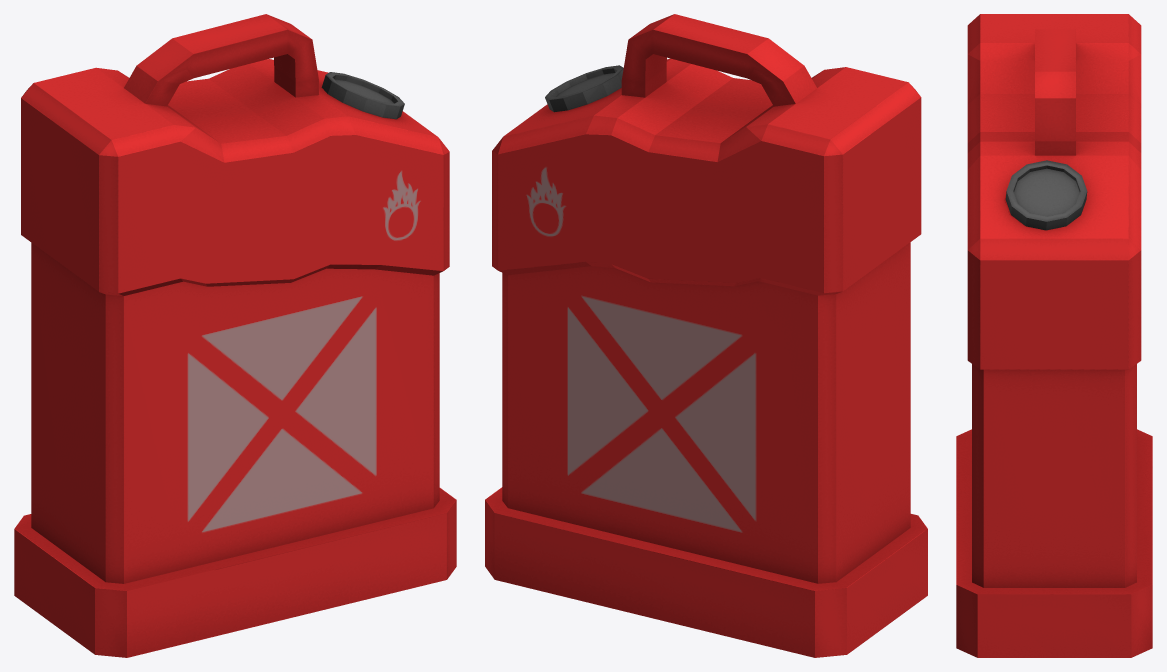
The model's file is gasTank.fbx.
3 views of the same model, side by side, from view 1: azimuth 30°, elevation 25°; view 2: azimuth 150°, elevation 25°; view 3: azimuth 270°, elevation 25° (orthographic). The views are drawn at different scales.
Visible parts, largest first — view 1: Galao; view 2: Galao; view 3: Galao.
Part boxes in pixels (left/top/right/bottom): Galao: left=14, top=14, right=456, bottom=657; Galao: left=485, top=14, right=927, bottom=657; Galao: left=956, top=14, right=1152, bottom=657.
Bounding box in the file's own units: 8.8 × 12.75 × 4.35.
Materials: 1 (1 with a texture image).
